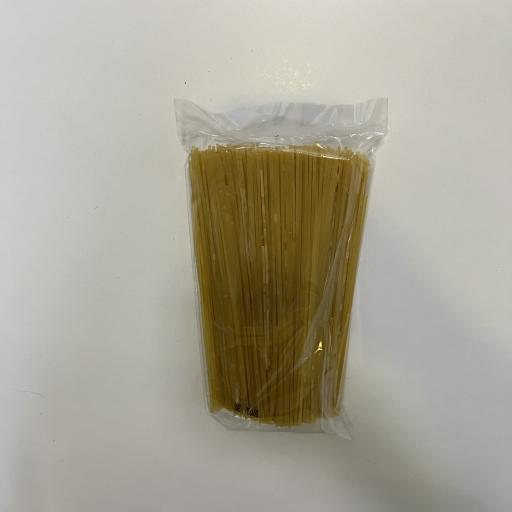spagetti: (134, 82, 406, 444)
